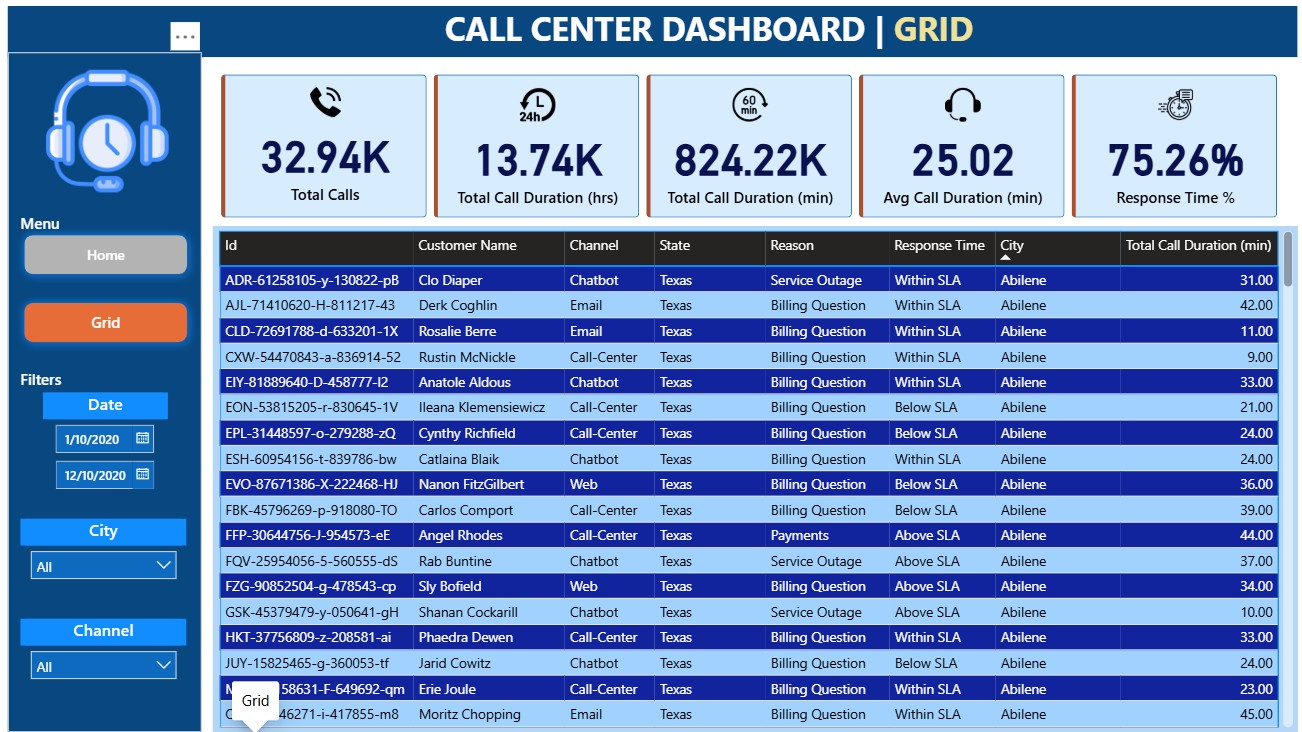

The page's visual inventory and layout, read from the dashboard file:
{"tool":"powerbi","page":{"name":"Grid","canvas":[1280,720],"ordinal":1},"visuals":[{"type":"shape","box":[8.6,9.8,1262,50.1],"z":0},{"type":"shape","box":[8.6,55,189.5,665.2],"z":1000},{"type":"cardVisual","fields":{"Data":["Measures..Total Calls","Measures..Total Call Duration (hrs)","Measures..Total Call Duration (min)","Measures..Avg Call Duration (min)","Measures..Response Time %"]},"box":[200.5,59.9,1070,174.9],"z":2000},{"type":"textbox","box":[375.4,9.8,638.3,50.1],"z":3000},{"type":"slicer","title":"Date","fields":{"Values":["Date Table.Date"]},"box":[42.8,387.6,122.3,111.3],"z":4000},{"type":"slicer","title":"City","fields":{"Values":["Call Center_Dataset.City"]},"box":[20.8,511.1,162.6,78.3],"z":5000},{"type":"slicer","title":"Channel","fields":{"Values":["Call Center_Dataset.Channel"]},"box":[20.8,609,162.6,79.5],"z":6000},{"type":"image","box":[42.8,72.1,126,119.8],"z":7000},{"type":"tableEx","fields":{"Values":["Call Center_Dataset.Id","Call Center_Dataset.Customer Name","Call Center_Dataset.Channel","Call Center_Dataset.State","Call Center_Dataset.Reason","Call Center_Dataset.Response Time","Call Center_Dataset.City","Call Center_Dataset.Total Call Duration (min)"]},"box":[209.1,225,1061.4,495.2],"z":8000},{"type":"pageNavigator","box":[15.9,225,177.3,123.5],"z":9000},{"type":"textbox","box":[15.9,206.7,83.2,36.7],"z":10000},{"type":"textbox","box":[15.9,359.5,83.2,36.7],"z":11000}]}

Visuals, with their boxes in screenshot pixels (x1, y1, x2, y2), scaled from the page's 1280x720 canvas onto the 1302x732 screenshot:
shape: x1=9, y1=10, x2=1292, y2=61
shape: x1=9, y1=56, x2=202, y2=731
cardVisual - Measures..Total Calls x Measures..Total Call Duration (hrs): x1=204, y1=61, x2=1292, y2=239
textbox: x1=382, y1=10, x2=1031, y2=61
"Date" slicer: x1=44, y1=394, x2=168, y2=507
"City" slicer: x1=21, y1=520, x2=187, y2=599
"Channel" slicer: x1=21, y1=619, x2=187, y2=700
image: x1=44, y1=73, x2=172, y2=195
tableEx - Call Center_Dataset.Id x Call Center_Dataset.Customer Name: x1=213, y1=229, x2=1292, y2=731
pageNavigator: x1=16, y1=229, x2=197, y2=354
textbox: x1=16, y1=210, x2=101, y2=247
textbox: x1=16, y1=365, x2=101, y2=403
